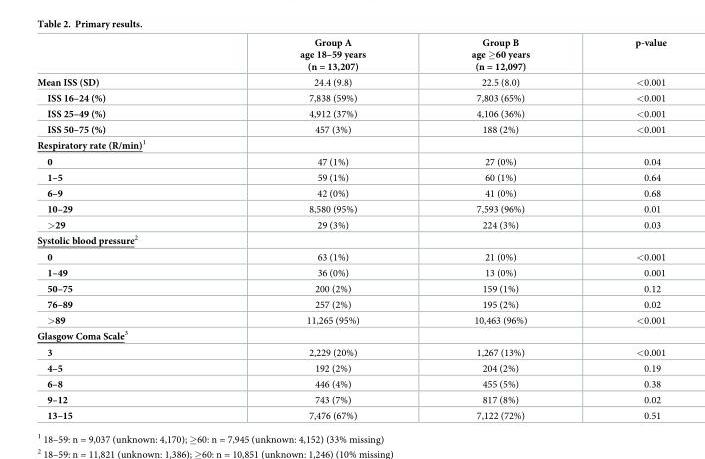table: (36, 37, 665, 420)
table column: (222, 37, 417, 420), (36, 37, 222, 420), (417, 37, 581, 420), (581, 37, 665, 420)
table column header: (36, 37, 665, 74)
table projected row header: (36, 136, 665, 153), (36, 231, 665, 248), (36, 327, 665, 344)
table row: (36, 37, 665, 74), (36, 136, 665, 153), (36, 231, 665, 248), (36, 327, 665, 344), (36, 74, 665, 90), (36, 105, 665, 121), (36, 153, 665, 169), (36, 169, 665, 185), (36, 185, 665, 201), (36, 248, 665, 264), (36, 264, 665, 280), (36, 280, 665, 296), (36, 296, 665, 312), (36, 344, 665, 360), (36, 360, 665, 376), (36, 391, 665, 407), (36, 90, 665, 105), (36, 121, 665, 136), (36, 201, 665, 216), (36, 216, 665, 231), (36, 312, 665, 327), (36, 376, 665, 391), (36, 407, 665, 420)
